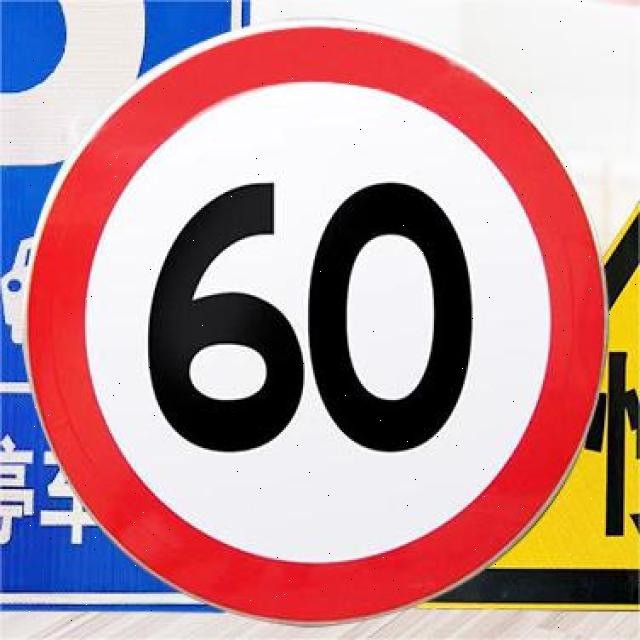speed limit 60: (28, 21, 609, 631)
